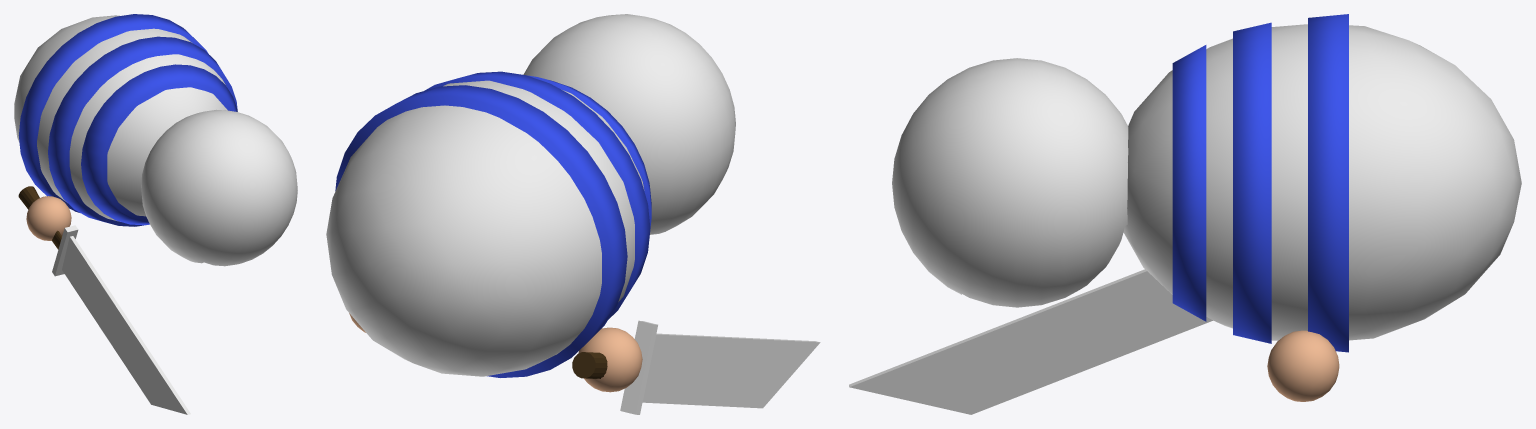
Rendered from knight_blue_idle.glb.
3 renders of one model, left to right at view 1: azimuth 30°, elevation 25°; view 2: azimuth 150°, elevation 25°; view 3: azimuth 270°, elevation 25°, orthographic. The views are drawn at different scales.
Parts seen in each view (by area): view 1: Sphere, Icosphere, Cylinder.015, Cylinder.002, Cylinder.001, Cylinder, Icosphere.003; view 2: Icosphere, Sphere, Cylinder.015, Cylinder, Cylinder.001, Icosphere.003, Cylinder.002; view 3: Icosphere, Sphere, Cylinder.015, Cylinder, Cylinder.001, Cylinder.002, Icosphere.004.
Boxes of the visible parts, x1,y1,x2,y2 form: Sphere: (141, 109, 297, 266); Icosphere: (14, 15, 227, 221); Cylinder.015: (18, 186, 190, 414); Cylinder.002: (81, 64, 237, 225); Cylinder.001: (48, 36, 237, 226); Cylinder: (18, 14, 208, 212); Icosphere.003: (26, 196, 71, 240); Icosphere: (326, 80, 644, 376); Sphere: (523, 14, 735, 234); Cylinder.015: (572, 320, 820, 414); Cylinder: (335, 85, 627, 377); Cylinder.001: (424, 71, 650, 319); Icosphere.003: (578, 327, 642, 392); Cylinder.002: (527, 75, 651, 238); Icosphere: (1123, 24, 1521, 340); Sphere: (892, 58, 1128, 307); Cylinder.015: (849, 269, 1212, 414); Cylinder: (1308, 14, 1348, 352); Cylinder.001: (1233, 22, 1271, 343); Cylinder.002: (1172, 45, 1206, 321); Icosphere.004: (1267, 330, 1339, 401).
Bounding box in the file's own units: 0.3579 × 0.4834 × 0.6576.
